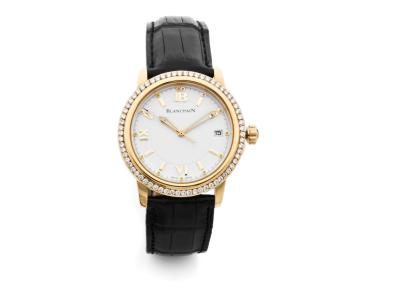watch: (113, 15, 264, 261)
